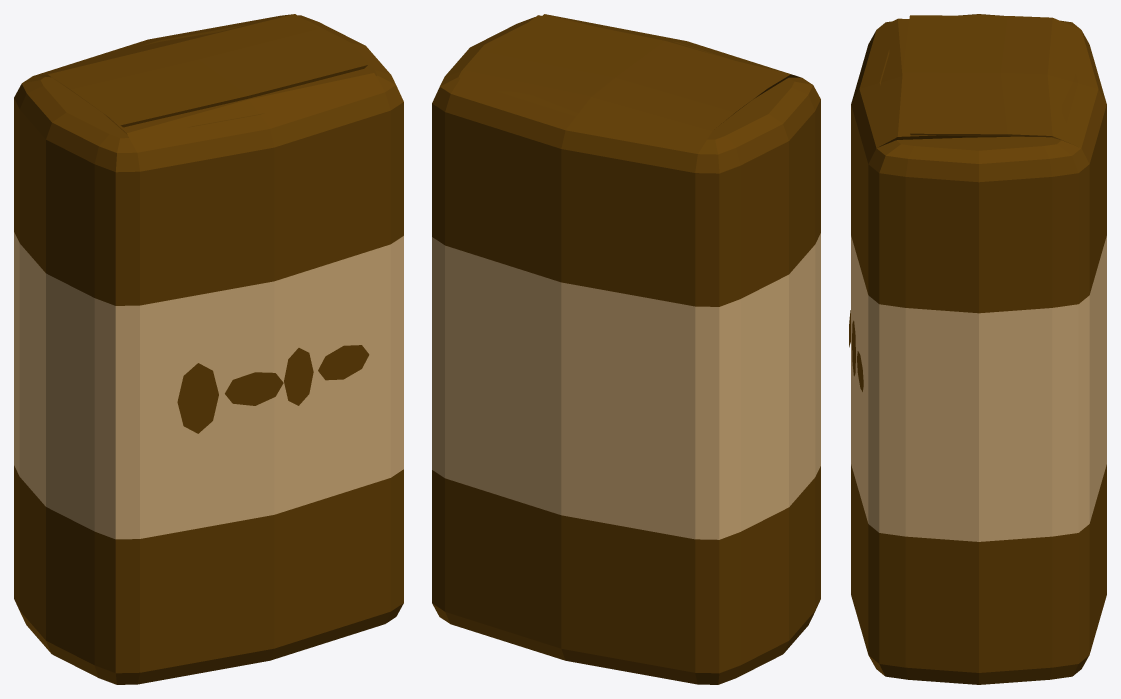
File: Ma_Flour.fbx
3 renders of one model, left to right at view 1: azimuth 30°, elevation 25°; view 2: azimuth 150°, elevation 25°; view 3: azimuth 270°, elevation 25°, orthographic. The views are drawn at different scales.
Parts seen in each view (by area): view 1: Ma_Flour; view 2: Ma_Flour; view 3: Ma_Flour.
Boxes of the visible parts, x1,y1,x2,y2 form: Ma_Flour: [14, 14, 403, 684]; Ma_Flour: [432, 14, 820, 684]; Ma_Flour: [849, 14, 1106, 684].
Size of the model in its own units: 108 by 75.69 by 176.
